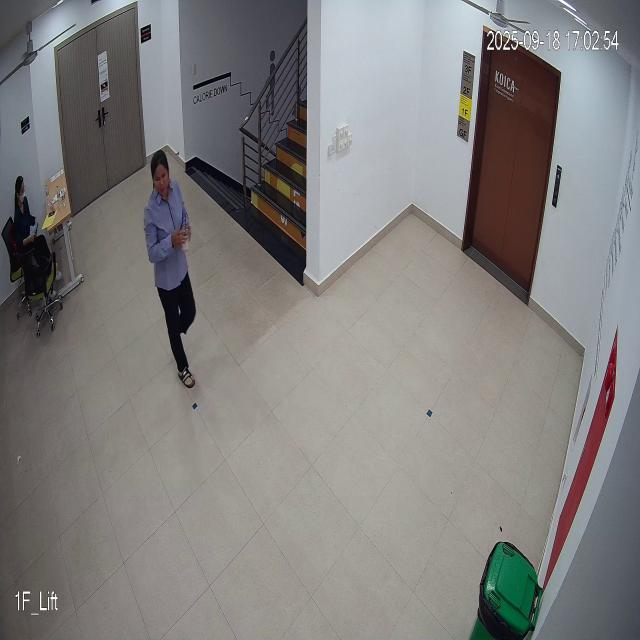face: (146, 146, 172, 200)
